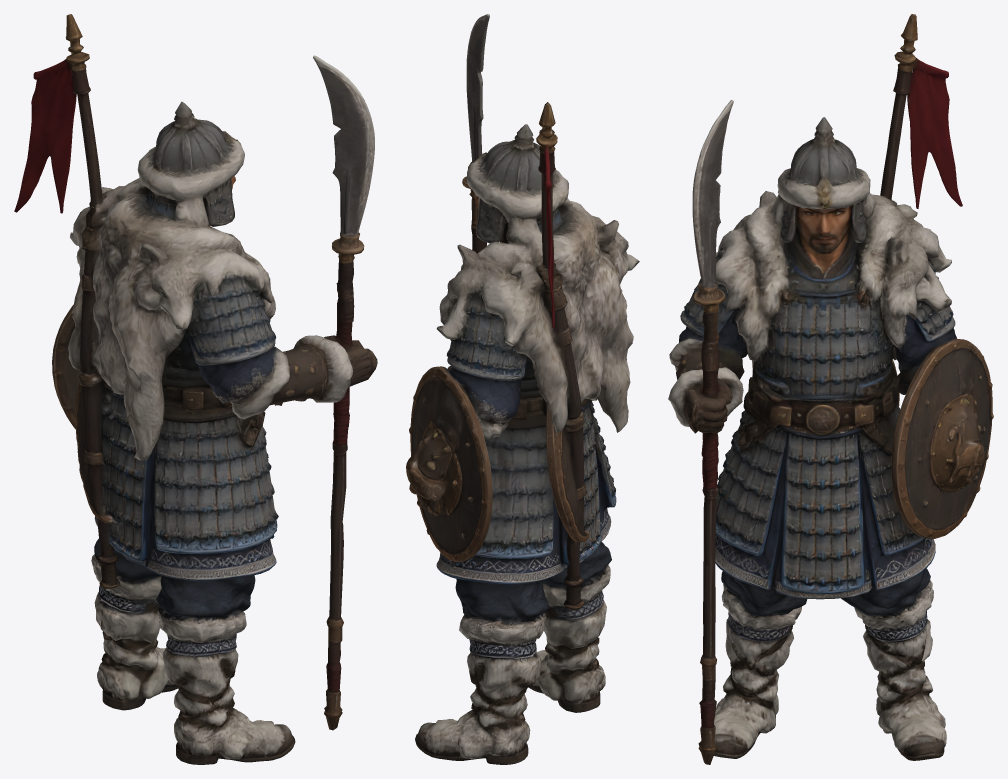
Rendered from vanguard-FrostHunter-tripo.glb.
3 renders of one model, left to right at view 1: azimuth 30°, elevation 25°; view 2: azimuth 150°, elevation 25°; view 3: azimuth 270°, elevation 25°, orthographic. The views are drawn at different scales.
Visible parts, largest first — view 1: tripo_node_c696be46-cdc8-47b8-8d12-724d18f0f4ae; view 2: tripo_node_c696be46-cdc8-47b8-8d12-724d18f0f4ae; view 3: tripo_node_c696be46-cdc8-47b8-8d12-724d18f0f4ae.
Part boxes in pixels (x1,y1,x2,y2): tripo_node_c696be46-cdc8-47b8-8d12-724d18f0f4ae: (14, 14, 377, 764); tripo_node_c696be46-cdc8-47b8-8d12-724d18f0f4ae: (406, 14, 639, 764); tripo_node_c696be46-cdc8-47b8-8d12-724d18f0f4ae: (668, 14, 993, 764).
Size of the model in its own units: 0.3437 by 1 by 0.4274.
Materials: 1 (1 with a texture image).
